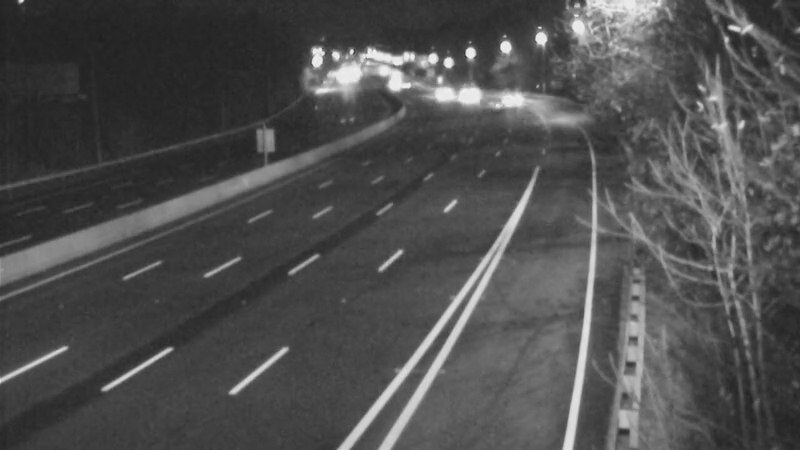vehicle: (379, 59, 429, 109), (365, 59, 415, 109), (417, 70, 467, 120), (445, 71, 495, 121), (487, 75, 537, 125)
